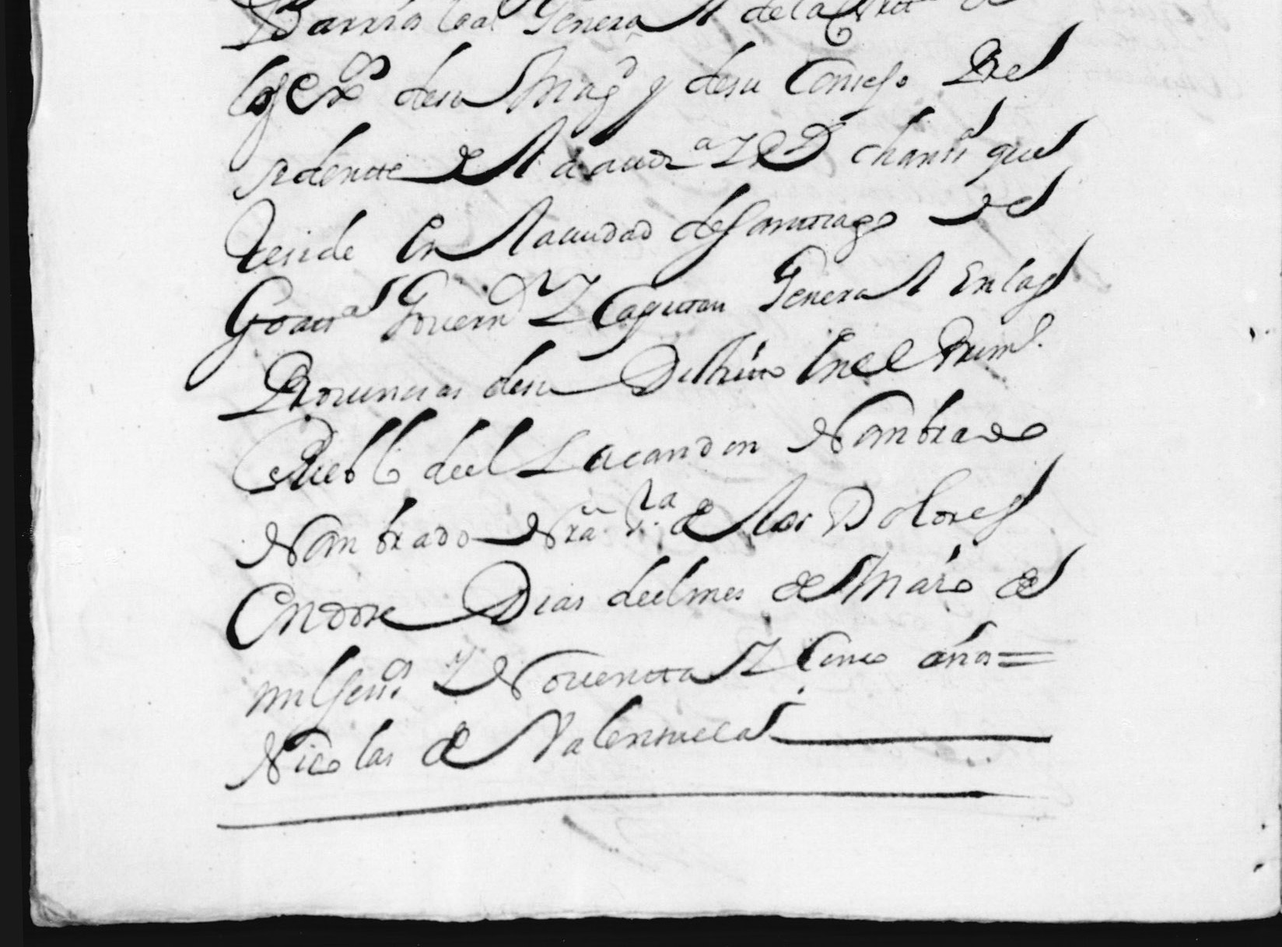lacandon: (516, 429, 759, 478)
